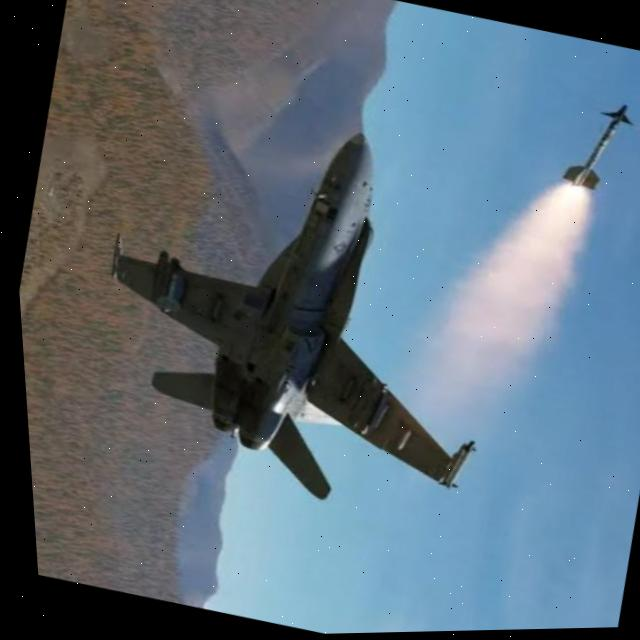missile: (545, 87, 640, 206)
